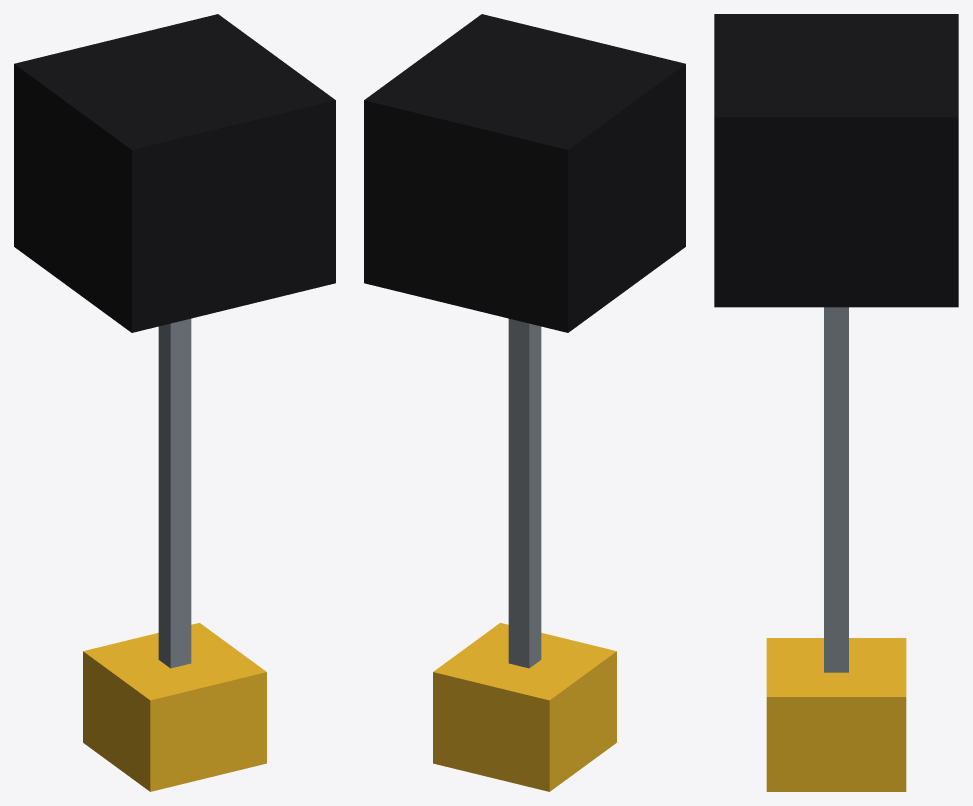
The model's file is constructor_trolley.obj.
3 renders of one model, left to right at view 1: azimuth 30°, elevation 25°; view 2: azimuth 150°, elevation 25°; view 3: azimuth 270°, elevation 25°, orthographic. The views are drawn at different scales.
Parts seen in each view (by area): view 1: Body; view 2: Body; view 3: Body.
Boxes of the visible parts, <box> form: Body: <box>14,14,335,791</box>; Body: <box>364,14,685,791</box>; Body: <box>714,14,958,791</box>.
Bounding box in the file's own units: 0.14 × 0.44 × 0.14.
